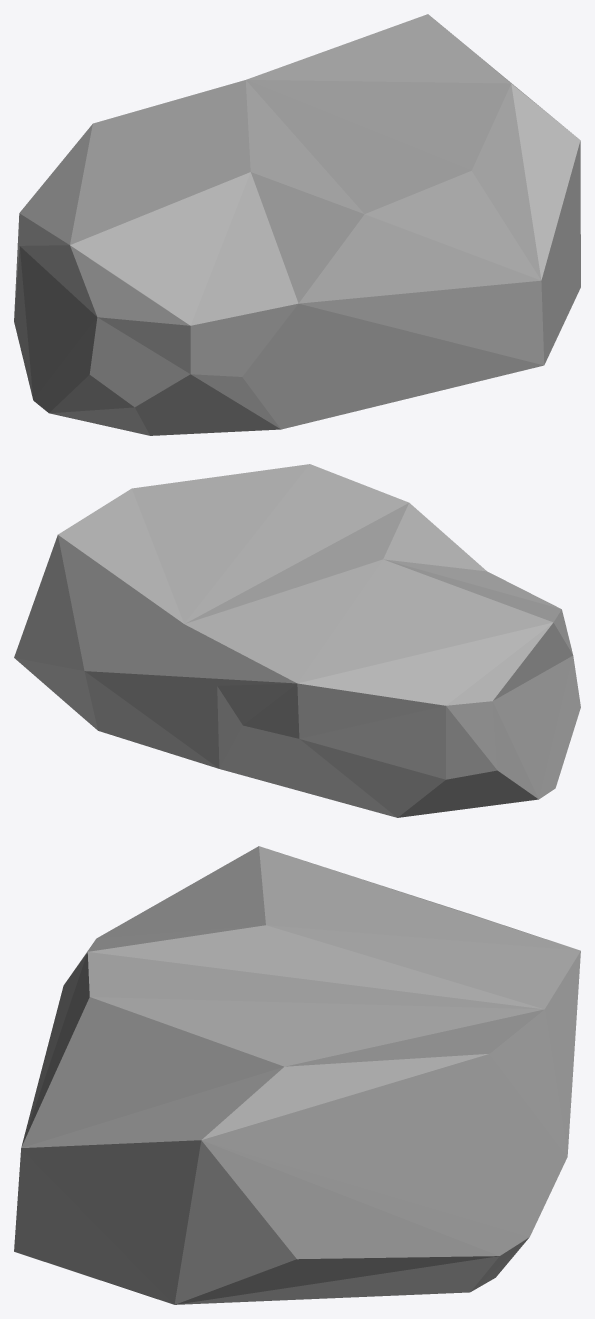
The model's file is Petit_Cailloux_01.fbx.
3 views of the same model, one above another, from view 1: azimuth 30°, elevation 25°; view 2: azimuth 150°, elevation 25°; view 3: azimuth 270°, elevation 25° (orthographic). The views are drawn at different scales.
Parts seen in each view (by area): view 1: Petit_Cailloux_01; view 2: Petit_Cailloux_01; view 3: Petit_Cailloux_01.
Boxes of the visible parts, x1,y1,x2,y2 form: Petit_Cailloux_01: [14, 14, 580, 435]; Petit_Cailloux_01: [14, 464, 580, 817]; Petit_Cailloux_01: [14, 846, 580, 1304].
Size of the model in its own units: 84.31 by 35.51 by 64.58.
Materials: 1 (1 with a texture image).
